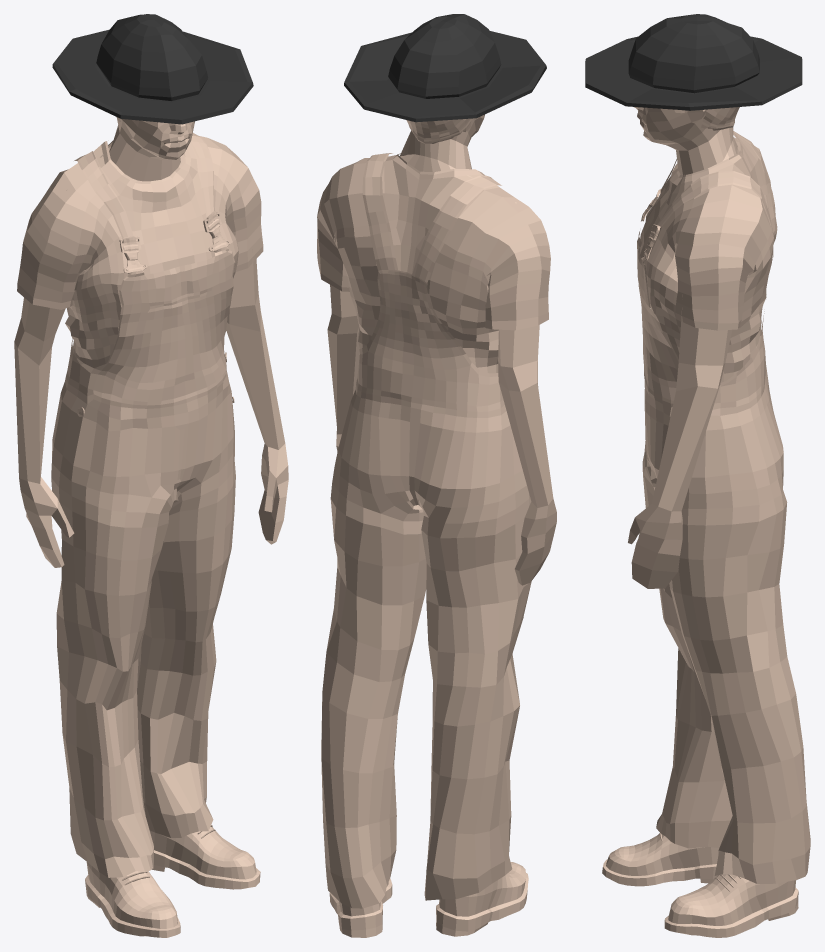
File: workermanOBJ.gltf
3 views of the same model, side by side, from view 1: azimuth 30°, elevation 25°; view 2: azimuth 150°, elevation 25°; view 3: azimuth 270°, elevation 25° (orthographic). The views are drawn at different scales.
Parts seen in each view (by area): view 1: Worker, Hat; view 2: Worker, Hat; view 3: Worker, Hat.
Boxes of the visible parts, bbox=[...] form: Worker: bbox=[14, 117, 288, 937]; Hat: bbox=[52, 14, 253, 124]; Worker: bbox=[317, 114, 556, 937]; Hat: bbox=[344, 14, 546, 122]; Worker: bbox=[602, 107, 810, 937]; Hat: bbox=[585, 14, 802, 110].
Size of the model in its own units: 0.517 by 1.84 by 0.4318.
